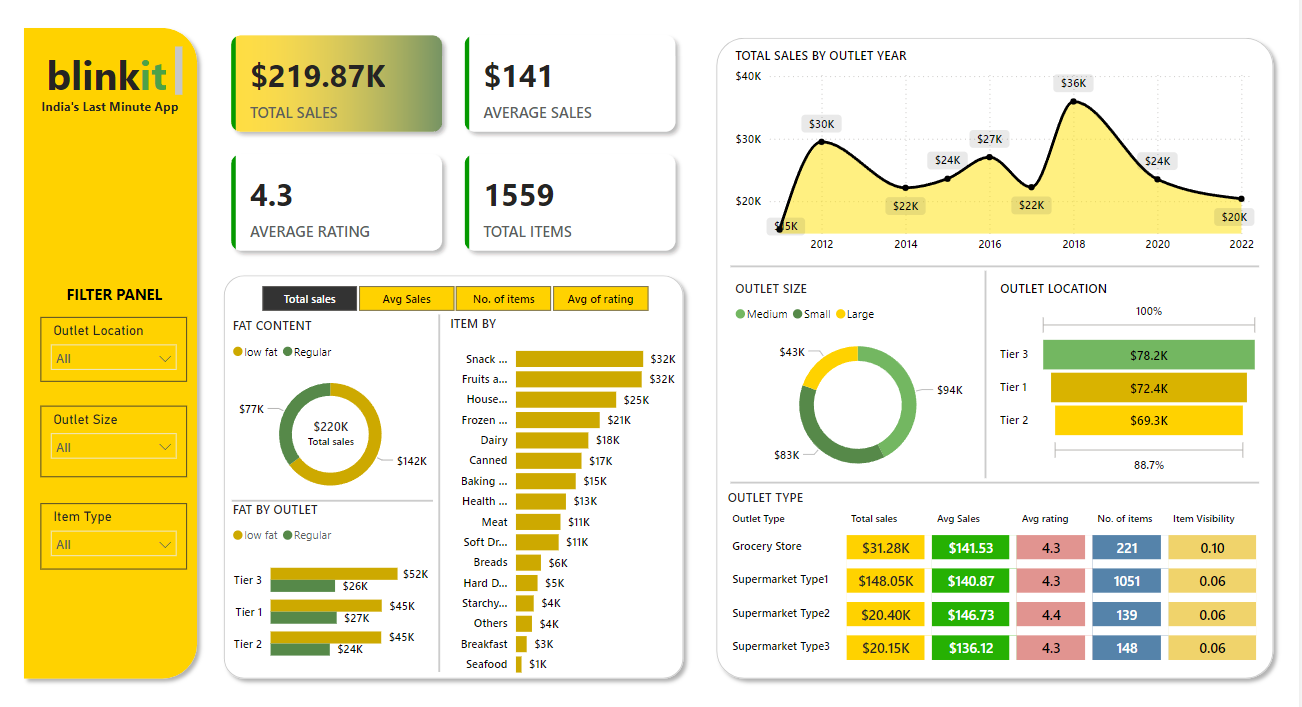

The dashboard page shown, as its layout file describes it:
{"tool":"powerbi","page":{"name":"Page 1","canvas":[1400,800],"ordinal":0},"visuals":[{"type":"shape","box":[18.8,40.3,204.4,718.2],"z":0},{"type":"textbox","box":[37.7,64.6,165.4,64.6],"z":1000},{"type":"textbox","box":[37.7,119.7,165.4,68.6],"z":2000},{"type":"cardVisual","fields":{"Data":["BlinkIT Grocery Data.Total sales","BlinkIT Grocery Data.Avg Sales","BlinkIT Grocery Data.Avg of rating","BlinkIT Grocery Data.No. of items"]},"box":[234,40.3,512.4,266.3],"z":3000},{"type":"shape","box":[234,306.7,512.4,451.9],"z":4000},{"type":"donutChart","title":"FAT CONTENT","fields":{"Y":["BlinkIT Grocery Data.Total sales"],"Category":["BlinkIT Grocery Data.Item Fat Content"]},"box":[247.5,360.5,220.6,207.1],"z":5000},{"type":"slicer","fields":{"Values":["Metrics.Metrics"]},"box":[258.2,320.1,465.4,40.3],"z":6000},{"type":"cardVisual","fields":{"Data":["BlinkIT Grocery Data.Total sales"]},"box":[310.7,450.6,95.5,68.6],"z":7000},{"type":"clusteredBarChart","title":"FAT BY OUTLET","fields":{"Y":["BlinkIT Grocery Data.Total sales"],"Series":["BlinkIT Grocery Data.Item Fat Content"],"Category":["BlinkIT Grocery Data.Outlet Location Type"]},"box":[247.5,558.2,220.6,187],"z":8000},{"type":"barChart","title":"ITEM BY","fields":{"Y":["BlinkIT Grocery Data.Total sales"],"Category":["BlinkIT Grocery Data.Item Type"]},"box":[481.5,357.8,252.9,399.5],"z":9000},{"type":"shape","box":[251.5,519.2,216.5,78],"z":10000},{"type":"shape","box":[454.6,357.8,40.3,384.7],"z":11000},{"type":"shape","box":[764,51.1,617.4,707.5],"z":12000},{"type":"lineChart","title":"TOTAL SALES BY OUTLET YEAR","fields":{"Y":["BlinkIT Grocery Data.Total sales"],"Category":["BlinkIT Grocery Data.Outlet Establishment Year"]},"box":[788.2,69.9,568.9,230],"z":13000},{"type":"donutChart","title":"OUTLET SIZE","fields":{"Category":["BlinkIT Grocery Data.Outlet Size"],"Y":["BlinkIT Grocery Data.Total sales"]},"box":[788.2,320.1,274.4,224.6],"z":14000},{"type":"funnel","title":"OUTLET LOCATION","fields":{"Y":["BlinkIT Grocery Data.Total sales"],"Category":["BlinkIT Grocery Data.Outlet Location Type"]},"box":[1073.3,320.1,289.2,215.2],"z":15000},{"type":"pivotTable","title":"OUTLET TYPE","fields":{"Rows":["BlinkIT Grocery Data.Outlet Type"],"Values":["BlinkIT Grocery Data.Total sales","BlinkIT Grocery Data.Avg Sales","BlinkIT Grocery Data.Avg of rating","BlinkIT Grocery Data.No. of items","Avg(BlinkIT Grocery Data.Item Visibility)"]},"box":[780.1,544.7,586.4,200.4],"z":16000},{"type":"shape","box":[788.2,299.9,568.9,12.1],"z":17000},{"type":"shape","box":[1042.4,310.7,40.3,223.3],"z":17001},{"type":"shape","box":[788.2,532.6,568.9,12.1],"z":17002},{"type":"slicer","fields":{"Values":["BlinkIT Grocery Data.Outlet Location Type"]},"box":[45.7,360.5,157.4,69.9],"z":17003},{"type":"slicer","fields":{"Values":["BlinkIT Grocery Data.Outlet Size"]},"box":[45.7,456,157.4,76.7],"z":17004},{"type":"slicer","fields":{"Values":["BlinkIT Grocery Data.Item Type"]},"box":[45.7,560.9,157.4,71.3],"z":17005},{"type":"textbox","box":[63.2,320.1,123.7,41.7],"z":17006}]}

Visuals, with their boxes on the page's 1400x800 design canvas (x1, y1, x2, y2). These are canvas units, not pixel positions in the 1302x707 screenshot, which may show the page scaled, cropped or inside an application window:
shape: [19,40,223,758]
textbox: [38,65,203,129]
textbox: [38,120,203,188]
cardVisual - BlinkIT Grocery Data.Total sales x BlinkIT Grocery Data.Avg Sales: [234,40,746,307]
shape: [234,307,746,759]
"FAT CONTENT" donutChart: [248,360,468,568]
slicer - Metrics.Metrics: [258,320,724,360]
cardVisual - BlinkIT Grocery Data.Total sales: [311,451,406,519]
"FAT BY OUTLET" clusteredBarChart: [248,558,468,745]
"ITEM BY" barChart: [482,358,734,757]
shape: [252,519,468,597]
shape: [455,358,495,742]
shape: [764,51,1381,759]
"TOTAL SALES BY OUTLET YEAR" lineChart: [788,70,1357,300]
"OUTLET SIZE" donutChart: [788,320,1063,545]
"OUTLET LOCATION" funnel: [1073,320,1362,535]
"OUTLET TYPE" pivotTable: [780,545,1366,745]
shape: [788,300,1357,312]
shape: [1042,311,1083,534]
shape: [788,533,1357,545]
slicer - BlinkIT Grocery Data.Outlet Location Type: [46,360,203,430]
slicer - BlinkIT Grocery Data.Outlet Size: [46,456,203,533]
slicer - BlinkIT Grocery Data.Item Type: [46,561,203,632]
textbox: [63,320,187,362]
